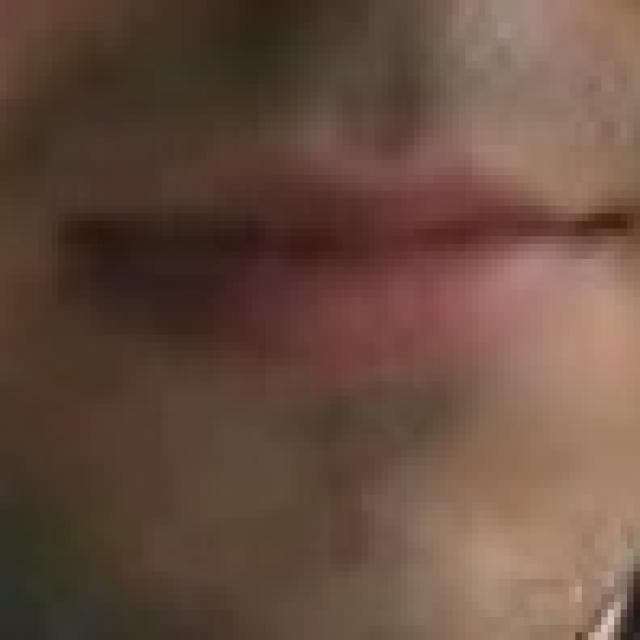closed-mouth: (45, 137, 634, 357)
